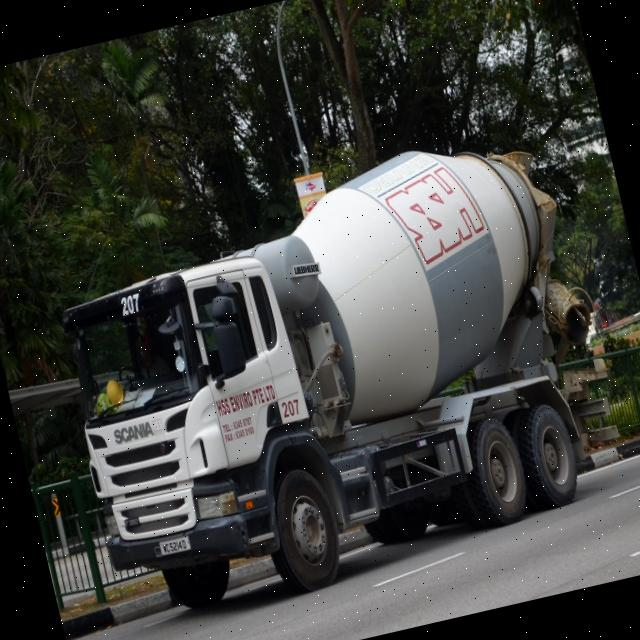Mixer Truck: (36, 118, 637, 632)
